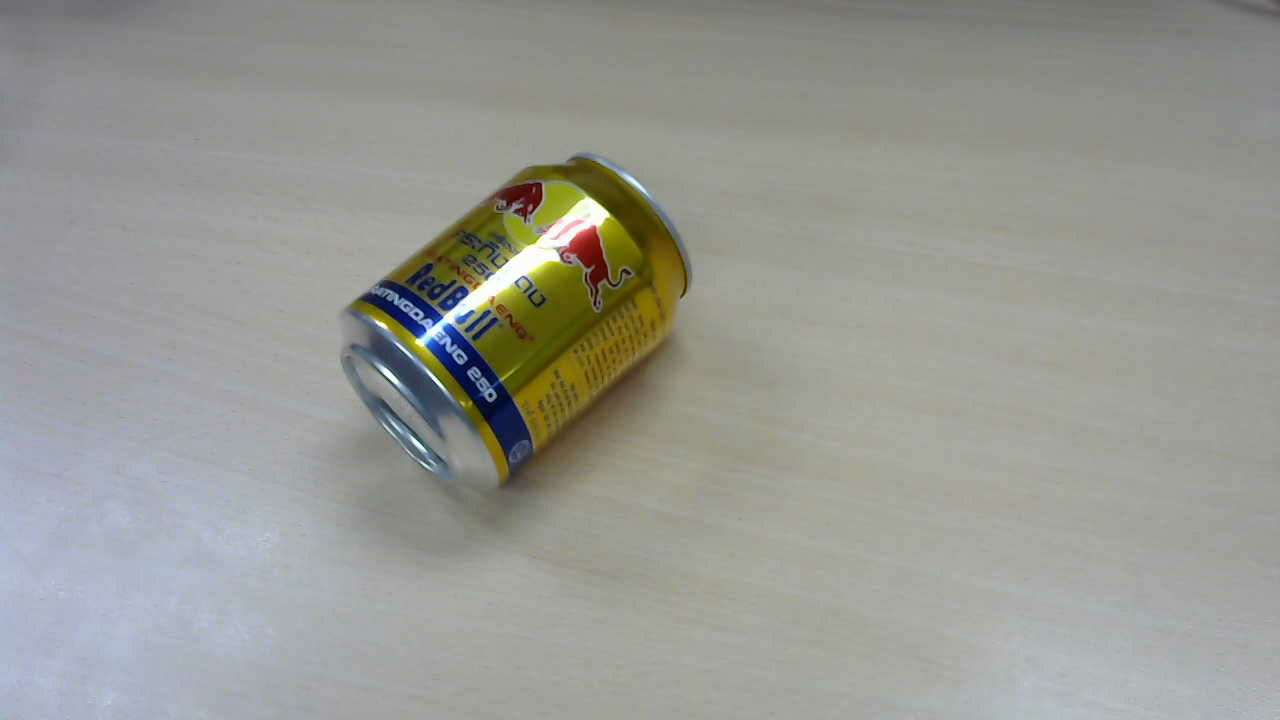Red_Bull: (338, 154, 699, 502)
